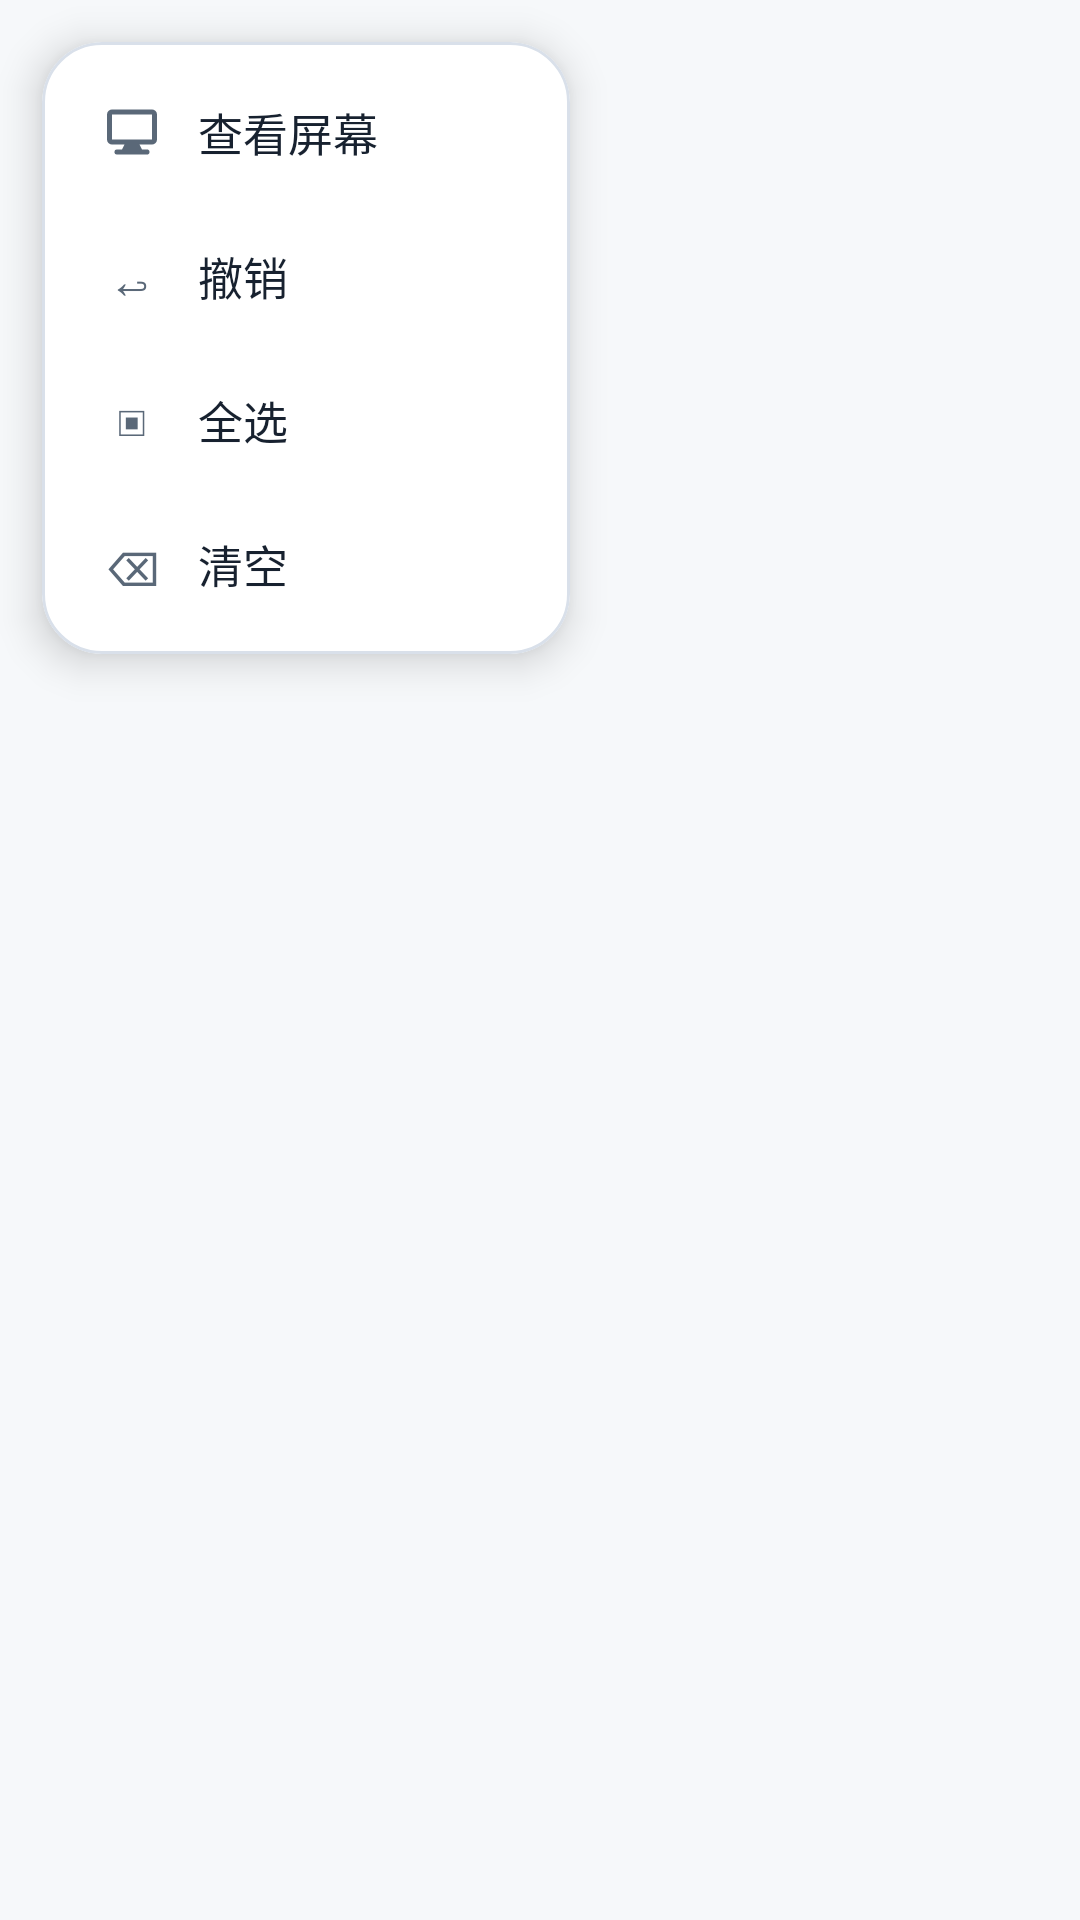

Screen size 1080×1920. Icon name, then its center in pixels as point (x, y):
screen: point (132, 132)
